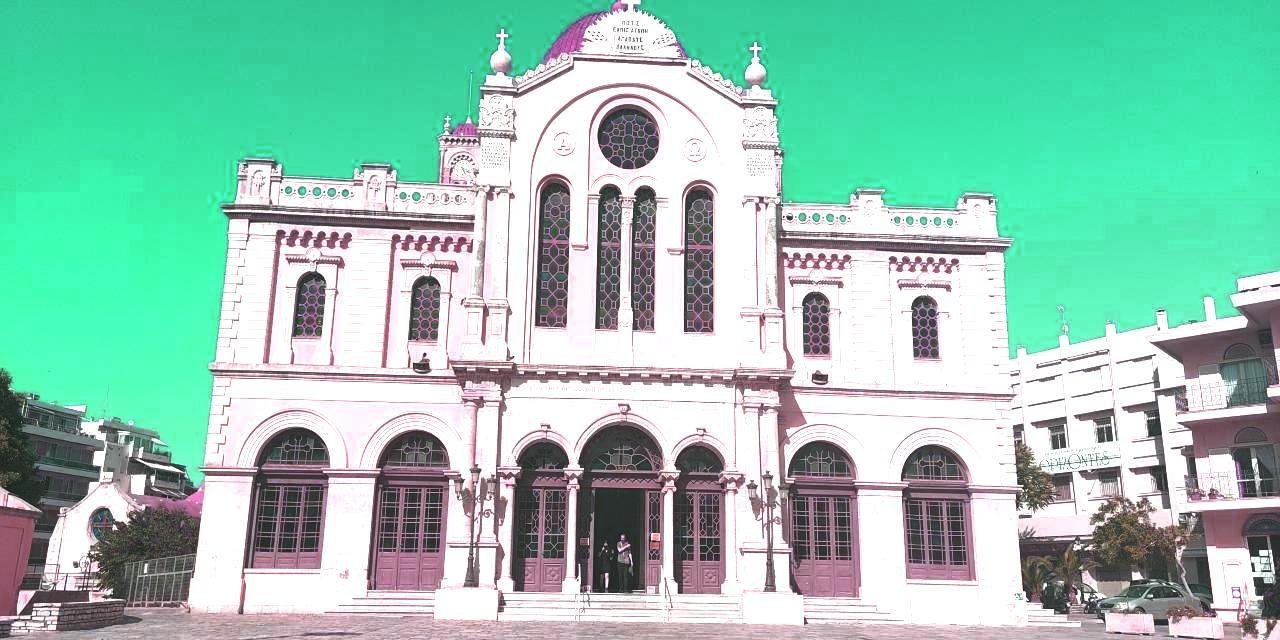Agios Minas: (178, 1, 1027, 626)
